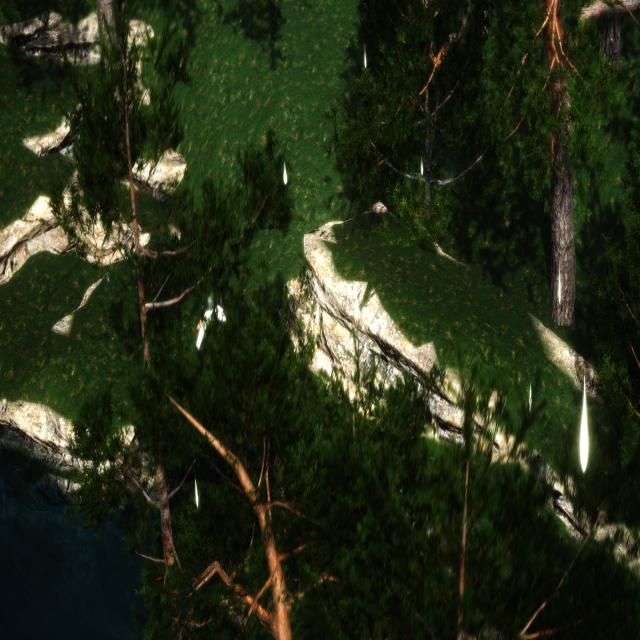Human: (197, 256, 241, 354)
